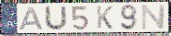5: (71, 5, 90, 31)
9: (119, 4, 139, 32)
A: (17, 6, 45, 31)
K: (95, 5, 114, 30)
N: (141, 4, 167, 31)
U: (43, 5, 68, 32)
